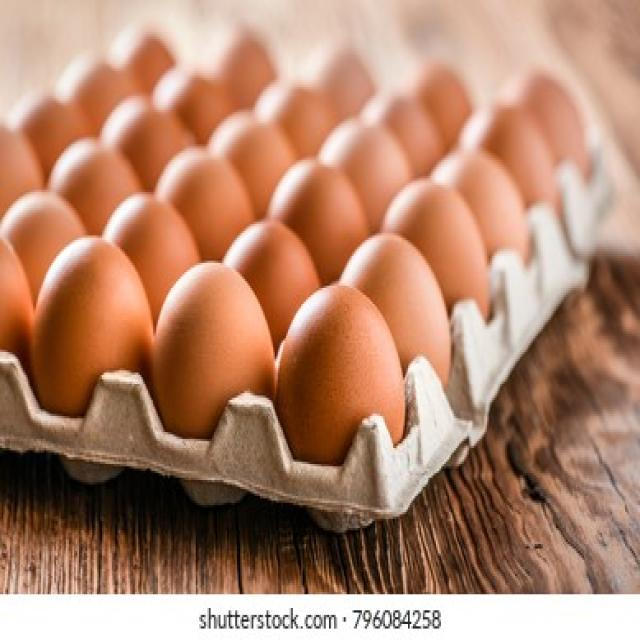Brown Egg: (274, 262, 403, 458), (149, 256, 275, 456), (24, 232, 151, 417), (340, 236, 451, 394), (384, 176, 489, 336)
